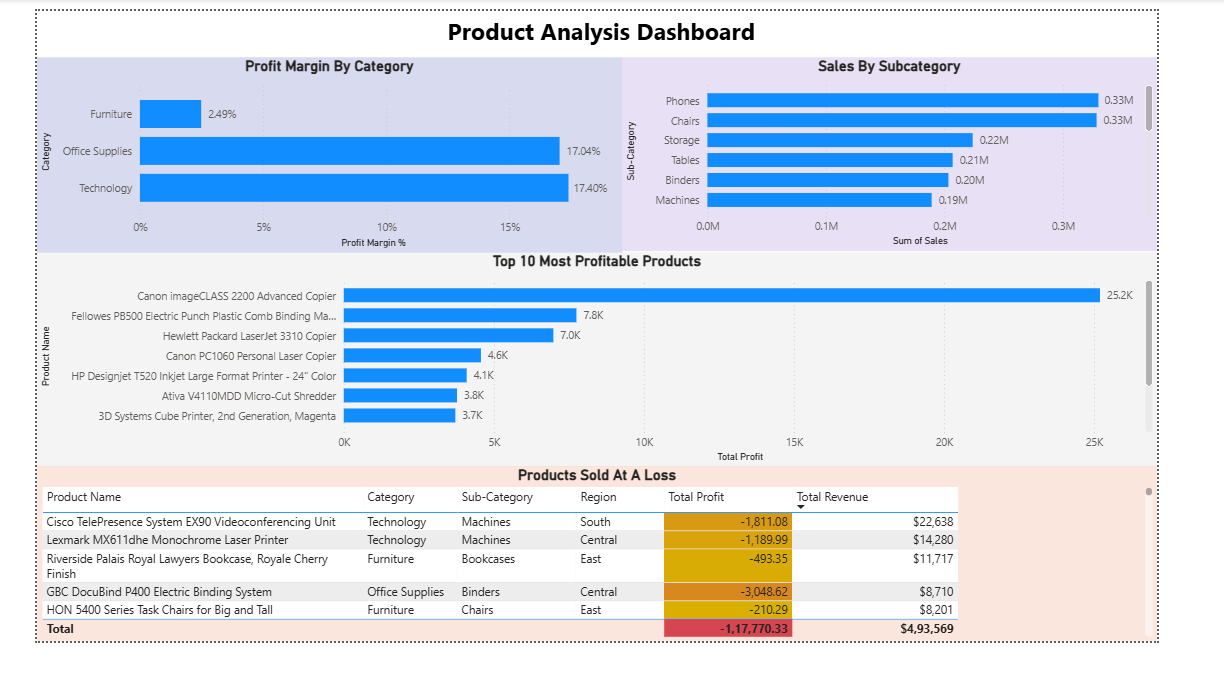

The dashboard page shown, as its layout file describes it:
{"tool":"powerbi","page":{"name":"Product Analysis","canvas":[1280,720],"ordinal":1},"visuals":[{"type":"textbox","box":[10,0,1270,72.9],"z":0},{"type":"clusteredBarChart","title":"Profit Margin By Category","fields":{"Y":["superstore.Profit Margin %"],"Category":["superstore.Category"]},"box":[0,52.9,668.6,222.9],"z":1000},{"type":"clusteredBarChart","title":"Sales By Subcategory","fields":{"Category":["superstore.Sub-Category"],"Y":["Sum(superstore.Sales)"]},"box":[668.6,52.9,611.4,221.4],"z":2000},{"type":"clusteredBarChart","title":" Top 10 Most Profitable Products","fields":{"Category":["superstore.Product Name"],"Y":["superstore.Total  Profit"]},"box":[0,275,1280,245],"z":3000},{"type":"tableEx","title":"Products Sold At A Loss","fields":{"Values":["superstore.Product Name","superstore.Category","superstore.Sub-Category","superstore.Region","superstore.Total  Profit","superstore.Total Revenue"]},"box":[0,520,1280,200],"z":4000}]}

Visuals, with their boxes in screenshot pixels (x1, y1, x2, y2), scaled from the page's 1280x720 canvas onto the 1224x684 screenshot:
textbox: bbox=[10, 0, 1223, 69]
"Profit Margin By Category" clusteredBarChart: bbox=[0, 50, 639, 262]
"Sales By Subcategory" clusteredBarChart: bbox=[639, 50, 1223, 261]
" Top 10 Most Profitable Products" clusteredBarChart: bbox=[0, 261, 1223, 494]
"Products Sold At A Loss" tableEx: bbox=[0, 494, 1223, 683]
